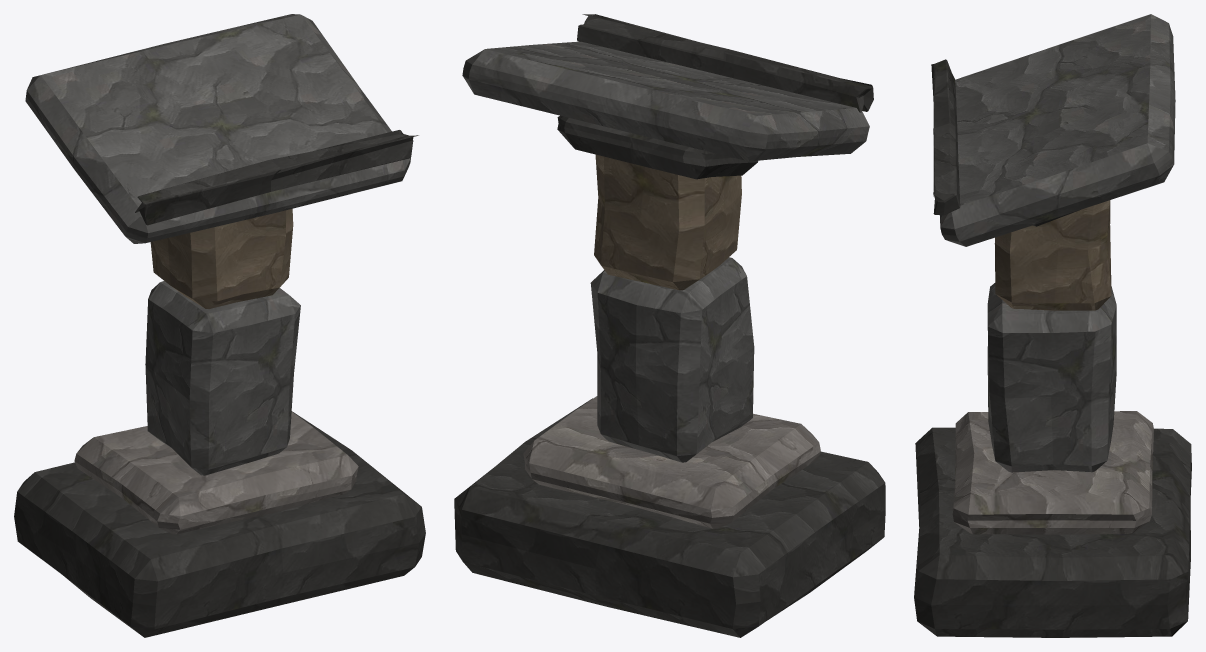
Rendered from recipe_stand_stone.glb.
3 views of the same model, side by side, from view 1: azimuth 30°, elevation 25°; view 2: azimuth 150°, elevation 25°; view 3: azimuth 270°, elevation 25° (orthographic). The views are drawn at different scales.
Parts seen in each view (by area): view 1: model; view 2: model; view 3: model.
Part boxes in pixels (box(x1,y1,x2,y2)): model: box(14, 14, 425, 637); model: box(454, 14, 885, 637); model: box(914, 14, 1191, 637).
Bounding box in the file's own units: 0.6114 × 0.9655 × 0.4919.
Materials: 4 (4 with a texture image).
